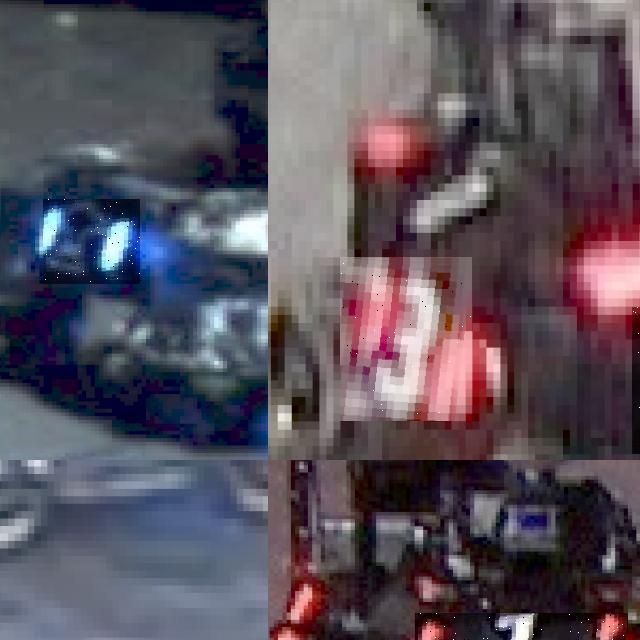Bs: (44, 199, 142, 284)
R1: (414, 612, 628, 640)
R3: (340, 258, 472, 422)
